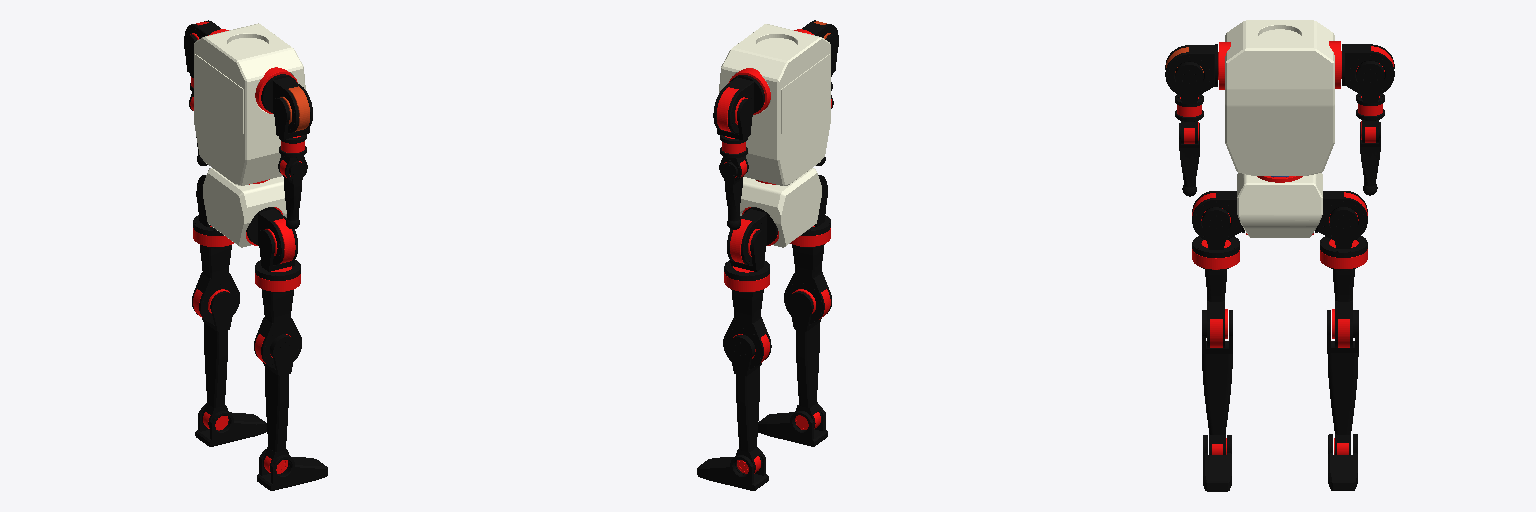
--- Render facts (derived) ---
3 views of the same robot in one strip: view 1: azimuth 30°, elevation 25°; view 2: azimuth 150°, elevation 25°; view 3: azimuth 270°, elevation 25° (orthographic).
Model humanoid with 22 links and 21 joints (19 revolute, 2 fixed), rooted at hip, posed all joints at 0.
Visible links, largest first — view 1: connector0_3, hip, connector2_4, connector2_2, connector3, connector3_2, connector0_5, connector2_3, shoes, shoes_2, connector0_2, connector2_6 (+2 smaller); view 2: connector0_3, hip, connector2_2, connector2_4, connector3_2, connector3, connector0_4, connector2, shoes, shoes_2, connector0, connector2_5 (+2 smaller); view 3: connector0_3, hip, connector2_2, connector2_4, connector2_3, connector2, connector3, connector0_5, connector3_2, connector0_4, connector2_5, connector2_6 (+8 smaller).
Link boxes in pixels (x1,y1,x2,y2): connector0_3: (194, 23, 305, 185); hip: (203, 168, 286, 247); connector2_4: (263, 334, 296, 474); connector2_2: (202, 291, 235, 430); connector3: (192, 245, 239, 323); connector3_2: (254, 289, 301, 368); connector0_5: (261, 74, 312, 132); connector2_3: (255, 230, 300, 291); shoes: (195, 404, 266, 446); shoes_2: (257, 449, 327, 490); connector0_2: (246, 207, 297, 264); connector2_6: (273, 98, 311, 152); connector0_3: (719, 24, 830, 185); hip: (740, 168, 821, 247); connector2_2: (728, 335, 762, 474); connector2_4: (788, 291, 821, 429); connector3_2: (784, 244, 831, 323); connector3: (723, 289, 771, 368); connector0_4: (713, 75, 764, 133); connector2: (724, 230, 769, 291); shoes: (697, 448, 768, 490); shoes_2: (758, 404, 827, 446); connector0: (727, 207, 777, 264); connector2_5: (717, 99, 753, 153); connector0_3: (1218, 20, 1341, 176); hip: (1237, 173, 1322, 237); connector2_2: (1327, 310, 1358, 454); connector2_4: (1202, 310, 1232, 454); connector2_3: (1192, 207, 1239, 269); connector2: (1320, 207, 1367, 268); connector3: (1329, 267, 1357, 347); connector0_5: (1165, 44, 1217, 94); connector3_2: (1201, 267, 1228, 347); connector0_4: (1342, 44, 1394, 93); connector2_5: (1356, 61, 1384, 115); connector2_6: (1175, 62, 1203, 116).
Bounding box of the posed robot: 0.1824 × 0.471 × 0.9872 m (x, y, z).
Meshes: 18 distinct files referenced, 62 mesh visuals loaded (18 binary STL).

The robot description file, URDF, robot "humanoid":
<?xml version="1.0" ?>
<!-- Generated using onshape-to-robot -->
<!-- Onshape https://cad.onshape.com/documents/06688c54d9f33b1df3ff96fa/w/bd34902b55e37a044bc3683c/e/d011f94fe5533725f802c3ea -->
<robot name="humanoid">
  
  <!--Materials-->
  <material name="motor_mat">
    <color rgba="1.0 0.1 0.1 1"/>
  </material>
  <material name="connector_mat">
    <color rgba="0.10 0.10 0.10 1"/>
  </material>
  <material name="limb_mat">
    <color rgba="0.10 0.10 0.10 1"/>
  </material>
  <material name="body_mat">
    <color rgba="0.988 0.988 0.902 1"/>
  </material>

  <!-- Link hip -->
  <link name="hip">
    <inertial>
      <origin xyz="-0.0727621 -9.80268e-09 0.0052993" rpy="0 0 0"/>
      <mass value="3.89945"/>
      <inertia ixx="0.014136" ixy="3.14405e-09" ixz="-0.000317995" iyy="0.0105889" iyz="3.69433e-10" izz="0.0125774"/>
    </inertial>
    <!-- Part big_motor -->
    <visual>
      <origin xyz="-0.0750228 0.07 -0.0230023" rpy="-1.5708 -0 0"/>
      <geometry>
        <mesh filename="assets/big_motor.stl"/>
      </geometry>
      <material name="motor_mat"/>
    </visual>
    <collision>
      <origin xyz="-0.0750228 0.07 -0.0230023" rpy="-1.5708 -0 0"/>
      <geometry>
        <mesh filename="assets/big_motor.stl"/>
      </geometry>
    </collision>
    <!-- Part big_motor_2 -->
    <visual>
      <origin xyz="-0.0750228 -0.07 -0.0230023" rpy="-1.5708 -0 3.14159"/>
      <geometry>
        <mesh filename="assets/big_motor.stl"/>
      </geometry>
      <material name="motor_mat"/>
    </visual>
    <collision>
      <origin xyz="-0.0750228 -0.07 -0.0230023" rpy="-1.5708 -0 3.14159"/>
      <geometry>
        <mesh filename="assets/big_motor.stl"/>
      </geometry>
    </collision>
    <!-- Part hip -->
    <visual>
      <origin xyz="0 0 0" rpy="0 -0 0"/>
      <geometry>
        <mesh filename="assets/hip.stl"/>
      </geometry>
      <material name="body_mat"/>
    </visual>
    <collision>
      <origin xyz="0 0 0" rpy="0 -0 0"/>
      <geometry>
        <mesh filename="assets/hip.stl"/>
      </geometry>
    </collision>
    <!-- Part big_motor_3 -->
    <visual>
      <origin xyz="-0.0707505 0 0.075" rpy="0 -0 0"/>
      <geometry>
        <mesh filename="assets/big_motor.stl"/>
      </geometry>
      <material name="motor_mat"/>
    </visual>
    <collision>
      <origin xyz="-0.0707505 0 0.075" rpy="0 -0 0"/>
      <geometry>
        <mesh filename="assets/big_motor.stl"/>
      </geometry>
    </collision>
  </link>
  <!-- Link connector0 -->
  <link name="connector0">
    <inertial>
      <origin xyz="-0.00178585 -0.00977757 -0.0525704" rpy="0 0 0"/>
      <mass value="0.759712"/>
      <inertia ixx="0.00106697" ixy="-2.27622e-06" ixz="-7.40439e-06" iyy="0.000716195" iyz="-6.45966e-05" izz="0.00058095"/>
    </inertial>
    <!-- Part big_motor_4 -->
    <visual>
      <origin xyz="0.01325 -0.012 -0.059" rpy="1.5708 1.85037e-16 1.5708"/>
      <geometry>
        <mesh filename="assets/big_motor.stl"/>
      </geometry>
      <material name="motor_mat"/>
    </visual>
    <collision>
      <origin xyz="0.01325 -0.012 -0.059" rpy="1.5708 1.85037e-16 1.5708"/>
      <geometry>
        <mesh filename="assets/big_motor.stl"/>
      </geometry>
    </collision>
    <!-- Part connector1 -->
    <visual>
      <origin xyz="0.01325 -0.012 -0.059" rpy="-0 1.5708 0"/>
      <geometry>
        <mesh filename="assets/connector1.stl"/>
      </geometry>
      <material name="connector_mat"/>
    </visual>
    <collision>
      <origin xyz="0.01325 -0.012 -0.059" rpy="-0 1.5708 0"/>
      <geometry>
        <mesh filename="assets/connector1.stl"/>
      </geometry>
    </collision>
    <!-- Part connector0 -->
    <visual>
      <origin xyz="0 0 0" rpy="3.14159 -0 0"/>
      <geometry>
        <mesh filename="assets/connector0.stl"/>
      </geometry>
      <material name="connector_mat"/>
    </visual>
    <collision>
      <origin xyz="0 0 0" rpy="3.14159 -0 0"/>
      <geometry>
        <mesh filename="assets/connector0.stl"/>
      </geometry>
    </collision>
  </link>
  <!-- Link connector2 -->
  <link name="connector2">
    <inertial>
      <origin xyz="-0.070879 -3.98452e-10 0.016405" rpy="0 0 0"/>
      <mass value="0.768711"/>
      <inertia ixx="0.000834738" ixy="-8.46017e-12" ixz="3.24212e-05" iyy="0.00100733" iyz="1.82259e-13" izz="0.000953625"/>
    </inertial>
    <!-- Part connector2 -->
    <visual>
      <origin xyz="0 0 0.002" rpy="3.14159 -0 1.5708"/>
      <geometry>
        <mesh filename="assets/connector2.stl"/>
      </geometry>
      <material name="connector_mat"/>
    </visual>
    <collision>
      <origin xyz="0 0 0.002" rpy="3.14159 -0 1.5708"/>
      <geometry>
        <mesh filename="assets/connector2.stl"/>
      </geometry>
    </collision>
    <!-- Part connector4 -->
    <visual>
      <origin xyz="-0.034 0 0.017" rpy="-0 1.5708 0"/>
      <geometry>
        <mesh filename="assets/connector4.stl"/>
      </geometry>
      <material name="connector_mat"/>
    </visual>
    <collision>
      <origin xyz="-0.034 0 0.017" rpy="-0 1.5708 0"/>
      <geometry>
        <mesh filename="assets/connector4.stl"/>
      </geometry>
    </collision>
    <!-- Part big_motor_5 -->
    <visual>
      <origin xyz="-0.098 0 0.017" rpy="-3.14159 1.5708 0"/>
      <geometry>
        <mesh filename="assets/big_motor.stl"/>
      </geometry>
      <material name="motor_mat"/>
    </visual>
    <collision>
      <origin xyz="-0.098 0 0.017" rpy="-3.14159 1.5708 0"/>
      <geometry>
        <mesh filename="assets/big_motor.stl"/>
      </geometry>
    </collision>
  </link>
  <!-- Link connector3 -->
  <link name="connector3">
    <inertial>
      <origin xyz="-5.84414e-05 -0.00128501 -0.112644" rpy="0 0 0"/>
      <mass value="0.935207"/>
      <inertia ixx="0.00275872" ixy="-1.53233e-08" ixz="-1.05697e-06" iyy="0.00308647" iyz="-3.76162e-05" izz="0.000568309"/>
    </inertial>
    <!-- Part connector6 -->
    <visual>
      <origin xyz="-7.10983e-05 -0.0125 -0.144" rpy="1.5708 -0 0"/>
      <geometry>
        <mesh filename="assets/connector6.stl"/>
      </geometry>
      <material name="connector_mat"/>
    </visual>
    <collision>
      <origin xyz="-7.10983e-05 -0.0125 -0.144" rpy="1.5708 -0 0"/>
      <geometry>
        <mesh filename="assets/connector6.stl"/>
      </geometry>
    </collision>
    <!-- Part connector3 -->
    <visual>
      <origin xyz="0 0 0.002" rpy="3.14159 -0 0"/>
      <geometry>
        <mesh filename="assets/connector3.stl"/>
      </geometry>
      <material name="connector_mat"/>
    </visual>
    <collision>
      <origin xyz="0 0 0.002" rpy="3.14159 -0 0"/>
      <geometry>
        <mesh filename="assets/connector3.stl"/>
      </geometry>
    </collision>
    <!-- Part thigh_bone -->
    <visual>
      <origin xyz="0.000307787 0 -0.082" rpy="0 -0 0"/>
      <geometry>
        <mesh filename="assets/thigh_bone.stl"/>
      </geometry>
      <material name="limb_mat"/>
    </visual>
    <collision>
      <origin xyz="0.000307787 0 -0.082" rpy="0 -0 0"/>
      <geometry>
        <mesh filename="assets/thigh_bone.stl"/>
      </geometry>
    </collision>
    <!-- Part big_motor_6 -->
    <visual>
      <origin xyz="-7.10983e-05 0.0135 -0.144" rpy="-1.5708 -0 0"/>
      <geometry>
        <mesh filename="assets/big_motor.stl"/>
      </geometry>
      <material name="motor_mat"/>
    </visual>
    <collision>
      <origin xyz="-7.10983e-05 0.0135 -0.144" rpy="-1.5708 -0 0"/>
      <geometry>
        <mesh filename="assets/big_motor.stl"/>
      </geometry>
    </collision>
  </link>
  <!-- Link connector2_2 -->
  <link name="connector2_2">
    <inertial>
      <origin xyz="-7.67692e-05 -0.155915 0.0167959" rpy="0 0 0"/>
      <mass value="0.650858"/>
      <inertia ixx="0.00622527" ixy="-4.76015e-06" ixz="7.24798e-08" iyy="0.000251593" iyz="0.000111598" izz="0.00612623"/>
    </inertial>
    <!-- Part connector5 -->
    <visual>
      <origin xyz="-0.000192408 -0.28 0.029" rpy="0 -0 0"/>
      <geometry>
        <mesh filename="assets/connector5.stl"/>
      </geometry>
      <material name="connector_mat"/>
    </visual>
    <collision>
      <origin xyz="-0.000192408 -0.28 0.029" rpy="0 -0 0"/>
      <geometry>
        <mesh filename="assets/connector5.stl"/>
      </geometry>
    </collision>
    <!-- Part shin_bone -->
    <visual>
      <origin xyz="0.000202982 -0.245 0.017" rpy="-1.5708 -1.5708 0"/>
      <geometry>
        <mesh filename="assets/shin_bone.stl"/>
      </geometry>
      <material name="limb_mat"/>
    </visual>
    <collision>
      <origin xyz="0.000202982 -0.245 0.017" rpy="-1.5708 -1.5708 0"/>
      <geometry>
        <mesh filename="assets/shin_bone.stl"/>
      </geometry>
    </collision>
    <!-- Part connector2_2 -->
    <visual>
      <origin xyz="0 0 0.002" rpy="3.14159 -0 3.14159"/>
      <geometry>
        <mesh filename="assets/connector2.stl"/>
      </geometry>
      <material name="connector_mat"/>
    </visual>
    <collision>
      <origin xyz="0 0 0.002" rpy="3.14159 -0 3.14159"/>
      <geometry>
        <mesh filename="assets/connector2.stl"/>
      </geometry>
    </collision>
    <!-- Part small_motor -->
    <visual>
      <origin xyz="-0.000192408 -0.28 0.00499998" rpy="3.14159 -0 0"/>
      <geometry>
        <mesh filename="assets/small_motor.stl"/>
      </geometry>
      <material name="motor_mat"/>
    </visual>
    <collision>
      <origin xyz="-0.000192408 -0.28 0.00499998" rpy="3.14159 -0 0"/>
      <geometry>
        <mesh filename="assets/small_motor.stl"/>
      </geometry>
    </collision>
  </link>
  <!-- Link shoes -->
  <link name="shoes">
    <inertial>
      <origin xyz="0.0407995 -0.0301209 0.0170043" rpy="0 0 0"/>
      <mass value="0.336504"/>
      <inertia ixx="0.000183453" ixy="1.91792e-05" ixz="-7.71443e-08" iyy="0.000613076" iyz="6.74133e-09" izz="0.000571959"/>
    </inertial>
    <!-- Part shoes -->
    <visual>
      <origin xyz="0.00582733 0.0081512 -0.013" rpy="3.14159 -0 3.14159"/>
      <geometry>
        <mesh filename="assets/shoes.stl"/>
      </geometry>
      <material name="limb_mat"/>
    </visual>
    <collision>
      <origin xyz="0.00582733 0.0081512 -0.013" rpy="3.14159 -0 3.14159"/>
      <geometry>
        <mesh filename="assets/shoes.stl"/>
      </geometry>
    </collision>
  </link>
  <!-- Joint from connector2_2 to shoes -->
  <joint name="left_ankle" type="revolute">
    <origin xyz="-0.000192408 -0.28 -1.62227e-08" rpy="0 -0 0"/>
    <parent link="connector2_2"/>
    <child link="shoes"/>
    <axis xyz="0 0 1"/>
    <limit effort="10" velocity="10" lower="-0.7" upper="0.6"/>
  </joint>
  <!-- Joint from connector3 to connector2_2 -->
  <joint name="knee_left" type="revolute">
    <origin xyz="-7.10983e-05 0.0155 -0.144" rpy="1.5708 -0 0"/>
    <parent link="connector3"/>
    <child link="connector2_2"/>
    <axis xyz="0 0 1"/>
    <limit effort="10" velocity="10" lower="-1.85" upper="0.1"/>
  </joint>
  <!-- Joint from connector2 to connector3 -->
  <joint name="hip_left_z" type="revolute">
    <origin xyz="-0.1 0 0.017" rpy="-0 1.5708 0"/>
    <parent link="connector2"/>
    <child link="connector3"/>
    <axis xyz="0 0 1"/>
    <limit effort="10" velocity="10" lower="-0.8" upper="1.54"/>
  </joint>
  <!-- Joint from connector0 to connector2 -->
  <joint name="hip_left_x" type="revolute">
    <origin xyz="0.01525 -0.012 -0.059" rpy="-1.5708 1.85037e-16 1.5708"/>
    <parent link="connector0"/>
    <child link="connector2"/>
    <axis xyz="0 0 1"/>
    <limit effort="10" velocity="10" lower="-1.54" upper="0.3"/>
  </joint>
  <!-- Joint from hip to connector0 -->
  <joint name="hip_left_y" type="revolute">
    <origin xyz="-0.0750228 0.072 -0.0230023" rpy="1.5708 -0 0"/>
    <parent link="hip"/>
    <child link="connector0"/>
    <axis xyz="0 0 1"/>
    <limit effort="10" velocity="10" lower="-1.54" upper="1.54"/>
  </joint>
  <!-- Link connector0_2 -->
  <link name="connector0_2">
    <inertial>
      <origin xyz="0.000419786 -0.00977757 -0.0525704" rpy="0 0 0"/>
      <mass value="0.759712"/>
      <inertia ixx="0.00106697" ixy="1.44779e-06" ixz="3.36933e-06" iyy="0.000715971" iyz="-6.45966e-05" izz="0.000580725"/>
    </inertial>
    <!-- Part connector0_2 -->
    <visual>
      <origin xyz="0 0 0" rpy="3.14159 -0 0"/>
      <geometry>
        <mesh filename="assets/connector0.stl"/>
      </geometry>
      <material name="connector_mat"/>
    </visual>
    <collision>
      <origin xyz="0 0 0" rpy="3.14159 -0 0"/>
      <geometry>
        <mesh filename="assets/connector0.stl"/>
      </geometry>
    </collision>
    <!-- Part big_motor_7 -->
    <visual>
      <origin xyz="-0.01475 -0.012 -0.059" rpy="-1.5708 1.85037e-16 1.5708"/>
      <geometry>
        <mesh filename="assets/big_motor.stl"/>
      </geometry>
      <material name="motor_mat"/>
    </visual>
    <collision>
      <origin xyz="-0.01475 -0.012 -0.059" rpy="-1.5708 1.85037e-16 1.5708"/>
      <geometry>
        <mesh filename="assets/big_motor.stl"/>
      </geometry>
    </collision>
    <!-- Part connector1_2 -->
    <visual>
      <origin xyz="0.01325 -0.012 -0.059" rpy="-0 1.5708 0"/>
      <geometry>
        <mesh filename="assets/connector1.stl"/>
      </geometry>
      <material name="connector_mat"/>
    </visual>
    <collision>
      <origin xyz="0.01325 -0.012 -0.059" rpy="-0 1.5708 0"/>
      <geometry>
        <mesh filename="assets/connector1.stl"/>
      </geometry>
    </collision>
  </link>
  <!-- Link connector2_3 -->
  <link name="connector2_3">
    <inertial>
      <origin xyz="-0.070879 -3.98452e-10 0.016405" rpy="0 0 0"/>
      <mass value="0.768711"/>
      <inertia ixx="0.000834738" ixy="-8.46017e-12" ixz="3.24212e-05" iyy="0.00100733" iyz="1.82259e-13" izz="0.000953625"/>
    </inertial>
    <!-- Part connector4_2 -->
    <visual>
      <origin xyz="-0.034 0 0.017" rpy="-0 1.5708 0"/>
      <geometry>
        <mesh filename="assets/connector4.stl"/>
      </geometry>
      <material name="connector_mat"/>
    </visual>
    <collision>
      <origin xyz="-0.034 0 0.017" rpy="-0 1.5708 0"/>
      <geometry>
        <mesh filename="assets/connector4.stl"/>
      </geometry>
    </collision>
    <!-- Part big_motor_8 -->
    <visual>
      <origin xyz="-0.098 -2.77556e-17 0.017" rpy="-3.14159 1.5708 0"/>
      <geometry>
        <mesh filename="assets/big_motor.stl"/>
      </geometry>
      <material name="motor_mat"/>
    </visual>
    <collision>
      <origin xyz="-0.098 -2.77556e-17 0.017" rpy="-3.14159 1.5708 0"/>
      <geometry>
        <mesh filename="assets/big_motor.stl"/>
      </geometry>
    </collision>
    <!-- Part connector2_3 -->
    <visual>
      <origin xyz="0 0 0.002" rpy="3.14159 -0 1.5708"/>
      <geometry>
        <mesh filename="assets/connector2.stl"/>
      </geometry>
      <material name="connector_mat"/>
    </visual>
    <collision>
      <origin xyz="0 0 0.002" rpy="3.14159 -0 1.5708"/>
      <geometry>
        <mesh filename="assets/connector2.stl"/>
      </geometry>
    </collision>
  </link>
  <!-- Link connector3_2 -->
  <link name="connector3_2">
    <inertial>
      <origin xyz="-5.84414e-05 0.0017471 -0.112644" rpy="0 0 0"/>
      <mass value="0.935207"/>
      <inertia ixx="0.00276025" ixy="2.05674e-08" ixz="-1.05697e-06" iyy="0.00308647" iyz="5.12972e-05" izz="0.000569835"/>
    </inertial>
    <!-- Part connector6_2 -->
    <visual>
      <origin xyz="-7.10983e-05 -0.0125 -0.144" rpy="1.5708 -0 0"/>
      <geometry>
        <mesh filename="assets/connector6.stl"/>
      </geometry>
      <material name="connector_mat"/>
    </visual>
    <collision>
      <origin xyz="-7.10983e-05 -0.0125 -0.144" rpy="1.5708 -0 0"/>
      <geometry>
        <mesh filename="assets/connector6.stl"/>
      </geometry>
    </collision>
    <!-- Part connector3_2 -->
    <visual>
      <origin xyz="0 0 0.002" rpy="3.14159 -0 0"/>
      <geometry>
        <mesh filename="assets/connector3.stl"/>
      </geometry>
      <material name="connector_mat"/>
    </visual>
    <collision>
      <origin xyz="0 0 0.002" rpy="3.14159 -0 0"/>
      <geometry>
        <mesh filename="assets/connector3.stl"/>
      </geometry>
    </collision>
    <!-- Part big_motor_9 -->
    <visual>
      <origin xyz="-7.10983e-05 -0.0125 -0.144" rpy="1.5708 -0 0"/>
      <geometry>
        <mesh filename="assets/big_motor.stl"/>
      </geometry>
      <material name="motor_mat"/>
    </visual>
    <collision>
      <origin xyz="-7.10983e-05 -0.0125 -0.144" rpy="1.5708 -0 0"/>
      <geometry>
        <mesh filename="assets/big_motor.stl"/>
      </geometry>
    </collision>
    <!-- Part thigh_bone_2 -->
    <visual>
      <origin xyz="0.000307787 0 -0.082" rpy="0 -0 0"/>
      <geometry>
        <mesh filename="assets/thigh_bone.stl"/>
      </geometry>
      <material name="limb_mat"/>
    </visual>
    <collision>
      <origin xyz="0.000307787 0 -0.082" rpy="0 -0 0"/>
      <geometry>
        <mesh filename="assets/thigh_bone.stl"/>
      </geometry>
    </collision>
  </link>
  <!-- Link connector2_4 -->
  <link name="connector2_4">
    <inertial>
      <origin xyz="-7.67692e-05 0.155915 0.016796" rpy="0 0 0"/>
      <mass value="0.650858"/>
      <inertia ixx="0.00622527" ixy="4.76015e-06" ixz="7.28217e-08" iyy="0.000251593" iyz="-0.000111591" izz="0.00612623"/>
    </inertial>
    <!-- Part shin_bone_2 -->
    <visual>
      <origin xyz="0.000202982 0.245 0.017" rpy="1.5708 1.5708 0"/>
      <geometry>
        <mesh filename="assets/shin_bone.stl"/>
      </geometry>
      <material name="limb_mat"/>
    </visual>
    <collision>
      <origin xyz="0.000202982 0.245 0.017" rpy="1.5708 1.5708 0"/>
      <geometry>
        <mesh filename="assets/shin_bone.stl"/>
      </geometry>
    </collision>
    <!-- Part connector2_4 -->
    <visual>
      <origin xyz="0 0 0.002" rpy="3.14159 -0 0"/>
      <geometry>
        <mesh filename="assets/connector2.stl"/>
      </geometry>
      <material name="connector_mat"/>
    </visual>
    <collision>
      <origin xyz="0 0 0.002" rpy="3.14159 -0 0"/>
      <geometry>
        <mesh filename="assets/connector2.stl"/>
      </geometry>
    </collision>
    <!-- Part small_motor_2 -->
    <visual>
      <origin xyz="-0.000192408 0.28 0.00500002" rpy="3.14159 -0 0"/>
      <geometry>
        <mesh filename="assets/small_motor.stl"/>
      </geometry>
      <material name="motor_mat"/>
    </visual>
    <collision>
      <origin xyz="-0.000192408 0.28 0.00500002" rpy="3.14159 -0 0"/>
      <geometry>
        <mesh filename="assets/small_motor.stl"/>
      </geometry>
    </collision>
    <!-- Part connector5_2 -->
    <visual>
      <origin xyz="-0.000192408 0.28 0.00500002" rpy="3.14159 -0 0"/>
      <geometry>
        <mesh filename="assets/connector5.stl"/>
      </geometry>
      <material name="connector_mat"/>
    </visual>
    <collision>
      <origin xyz="-0.000192408 0.28 0.00500002" rpy="3.14159 -0 0"/>
      <geometry>
        <mesh filename="assets/connector5.stl"/>
      </geometry>
    </collision>
  </link>
  <!-- Link shoes_2 -->
  <link name="shoes_2">
    <inertial>
      <origin xyz="0.0407995 0.0301209 0.0169957" rpy="0 0 0"/>
      <mass value="0.336504"/>
      <inertia ixx="0.000183453" ixy="-1.91792e-05" ixz="7.71443e-08" iyy="0.000613076" iyz="6.74133e-09" izz="0.000571959"/>
    </inertial>
    <!-- Part shoes_2 -->
    <visual>
      <origin xyz="0.00582733 -0.0081512 0.047" rpy="0 -0 3.14159"/>
      <geometry>
        <mesh filename="assets/shoes.stl"/>
      </geometry>
      <material name="limb_mat"/>
    </visual>
    <collision>
      <origin xyz="0.00582733 -0.0081512 0.047" rpy="0 -0 3.14159"/>
      <geometry>
        <mesh filename="assets/shoes.stl"/>
      </geometry>
    </collision>
  </link>
  <!-- Joint from connector2_4 to shoes_2 -->
  <joint name="right_ankle" type="revolute">
    <origin xyz="-0.000192408 0.28 1.62227e-08" rpy="0 -0 0"/>
    <parent link="connector2_4"/>
    <child link="shoes_2"/>
    <axis xyz="0 0 1"/>
    <limit effort="10" velocity="10" lower="-0.6" upper="0.7"/>
  </joint>
  <!-- Joint from connector3_2 to connector2_4 -->
  <joint name="knee_right" type="revolute">
    <origin xyz="-7.10983e-05 -0.0145 -0.144" rpy="-1.5708 -0 0"/>
    <parent link="connector3_2"/>
    <child link="connector2_4"/>
    <axis xyz="0 0 1"/>
    <limit effort="10" velocity="10" lower="-0.1" upper="1.85"/>
  </joint>
  <!-- Joint from connector2_3 to connector3_2 -->
  <joint name="hip_right_z" type="revolute">
    <origin xyz="-0.1 -2.77556e-17 0.017" rpy="-0 1.5708 0"/>
    <parent link="connector2_3"/>
    <child link="connector3_2"/>
    <axis xyz="0 0 1"/>
    <limit effort="10" velocity="10" lower="-1.54" upper="0.8"/>
  </joint>
  <!-- Joint from connector0_2 to connector2_3 -->
  <joint name="hip_right_x" type="revolute">
    <origin xyz="-0.01675 -0.012 -0.059" rpy="1.5708 1.85037e-16 1.5708"/>
    <parent link="connector0_2"/>
    <child link="connector2_3"/>
    <axis xyz="0 0 1"/>
    <limit effort="10" velocity="10" lower="-.3" upper="1.54"/>
  </joint>
  <!-- Joint from hip to connector0_2 -->
  <joint name="hip_right_y" type="revolute">
    <origin xyz="-0.0750228 -0.072 -0.0230023" rpy="1.5708 -0 3.14159"/>
    <parent link="hip"/>
    <child link="connector0_2"/>
    <axis xyz="0 0 1"/>
    <limit effort="10" velocity="10" lower="-1.54" upper="1.54"/>
  </joint>
  <!-- Link connector0_3 -->
  <link name="connector0_3">
    <inertial>
      <origin xyz="-0.00177518 -3.44733e-08 -0.168206" rpy="0 0 0"/>
      <mass value="6.2149"/>
      <inertia ixx="0.0721998" ixy="-0.000183484" ixz="0.0010436" iyy="0.0494782" iyz="-3.45362e-07" izz="0.0418963"/>
    </inertial>
    <!-- Part big_motor_10 -->
    <visual>
      <origin xyz="0.000528207 0.125 -0.232" rpy="-1.5708 -0 0"/>
      <geometry>
        <mesh filename="assets/big_motor.stl"/>
      </geometry>
      <material name="motor_mat"/>
    </visual>
    <collision>
      <origin xyz="0.000528207 0.125 -0.232" rpy="-1.5708 -0 0"/>
      <geometry>
        <mesh filename="assets/big_motor.stl"/>
      </geometry>
    </collision>
    <!-- Part chest -->
    <visual>
      <origin xyz="0.0770282 -5.72583e-17 -0.1545" rpy="3.14159 -0 0"/>
      <geometry>
        <mesh filename="assets/chest.stl"/>
      </geometry>
      <material name="body_mat"/>
    </visual>
    <collision>
      <origin xyz="0.0770282 -5.72583e-17 -0.1545" rpy="3.14159 -0 0"/>
      <geometry>
        <mesh filename="assets/chest.stl"/>
      </geometry>
    </collision>
    <!-- Part connector0_3 -->
    <visual>
      <origin xyz="0 1.83697e-18 0" rpy="3.14159 -0 0"/>
      <geometry>
        <mesh filename="assets/connector0.stl"/>
      </geometry>
      <material name="connector0_3_material">
        <color rgba="0.231373 0.380392 0.705882 1"/>
      </material>
    </visual>
    <collision>
      <origin xyz="0 1.83697e-18 0" rpy="3.14159 -0 0"/>
      <geometry>
        <mesh filename="assets/connector0.stl"/>
      </geometry>
    </collision>
    <!-- Part big_motor_11 -->
    <visual>
      <origin xyz="-0.00297179 -0.125 -0.232006" rpy="1.5708 -0 0"/>
      <geometry>
        <mesh filename="assets/big_motor.stl"/>
      </geometry>
      <material name="motor_mat"/>
    </visual>
    <collision>
      <origin xyz="-0.00297179 -0.125 -0.232006" rpy="1.5708 -0 0"/>
      <geometry>
        <mesh filename="assets/big_motor.stl"/>
      </geometry>
    </collision>
  </link>
  <!-- Link connector0_4 -->
  <link name="connector0_4">
    <inertial>
      <origin xyz="-0.00178585 -0.00977757 -0.0525704" rpy="0 0 0"/>
      <mass value="0.759712"/>
      <inertia ixx="0.00106697" ixy="-2.27622e-06" ixz="-7.40439e-06" iyy="0.000716195" iyz="-6.45966e-05" izz="0.00058095"/>
    </inertial>
    <!-- Part connector0_4 -->
    <visual>
      <origin xyz="0 0 0" rpy="3.14159 -0 0"/>
      <geometry>
        <mesh filename="assets/connector0.stl"/>
      </geometry>
      <material name="connector_mat"/>
    </visual>
    <collision>
      <origin xyz="0 0 0" rpy="3.14159 -0 0"/>
      <geometry>
        <mesh filename="assets/connector0.stl"/>
      </geometry>
    </collision>
    <!-- Part big_motor_12 -->
    <visual>
      <origin xyz="0.01325 -0.012 -0.059" rpy="1.5708 1.85037e-16 1.5708"/>
      <geometry>
        <mesh filename="assets/big_motor.stl"/>
      </geometry>
      <material name="motor_mat"/>
    </visual>
    <collision>
      <origin xyz="0.01325 -0.012 -0.059" rpy="1.5708 1.85037e-16 1.5708"/>
      <geometry>
        <mesh filename="assets/big_motor.stl"/>
      </geometry>
    </collision>
    <!-- Part connector1_3 -->
    <visual>
      <origin xyz="0.01325 -0.012 -0.059" rpy="-0 1.5708 0"/>
      <geometry>
        <mesh filename="assets/connector1.stl"/>
      </geometry>
      <material name="connector_mat"/>
    </visual>
    <collision>
      <origin xyz="0.01325 -0.012 -0.059" rpy="-0 1.5708 0"/>
      <geometry>
        <mesh filename="assets/connector1.stl"/>
      </geometry>
    </collision>
  </link>
  <!-- Link connector2_5 -->
  <link name="connector2_5">
    <inertial>
      <origin xyz="-0.0522817 1.59545e-17 0.0154115" rpy="0 0 0"/>
      <mass value="0.287959"/>
      <inertia ixx="0.000155592" ixy="1.03301e-19" ixz="2.39145e-05" iyy="0.000451192" iyz="-6.57067e-21" izz="0.0003979"/>
    </inertial>
    <!-- Part connector2_5 -->
    <visual>
      <origin xyz="0 0 0.002" rpy="3.14159 -0 1.5708"/>
      <geometry>
        <mesh filename="assets/connector2.stl"/>
      </geometry>
      <material name="connector_mat"/>
    </visual>
    <collision>
      <origin xyz="0 0 0.002" rpy="3.14159 -0 1.5708"/>
      <geometry>
        <mesh filename="assets/connector2.stl"/>
      </geometry>
    </collision>
    <!-- Part connector7 -->
    <visual>
      <origin xyz="-0.069 2.77556e-17 0.017" rpy="-0 1.5708 0"/>
      <geometry>
        <mesh filename="assets/connector7.stl"/>
      </geometry>
      <material name="connector_mat"/>
    </visual>
    <collision>
      <origin xyz="-0.069 2.77556e-17 0.017" rpy="-0 1.5708 0"/>
      <geometry>
        <mesh filename="assets/connector7.stl"/>
      </geometry>
    </collision>
    <!-- Part small_motor_3 -->
    <visual>
      <origin xyz="-0.093 2.77556e-17 0.017" rpy="-3.14159 1.5708 0"/>
      <geometry>
        <mesh filename="assets/small_motor.stl"/>
      </geometry>
      <material name="motor_mat"/>
    </visual>
    <collision>
      <origin xyz="-0.093 2.77556e-17 0.017" rpy="-3.14159 1.5708 0"/>
      <geometry>
        <mesh filename="assets/small_motor.stl"/>
      </geometry>
    </collision>
  </link>
  <!-- Link connector7 -->
  <link name="connector7">
    <inertial>
      <origin xyz="-8.7963e-19 -0.00169196 -0.0384885" rpy="0 0 0"/>
      <mass value="0.191842"/>
      <inertia ixx="7.90601e-05" ixy="-1.66786e-22" ixz="-9.61509e-22" iyy="9.39121e-05" iyz="-1.78899e-06" izz="5.41431e-05"/>
    </inertial>
    <!-- Part connector7_2 -->
    <visual>
      <origin xyz="0 0 -0.009" rpy="0 -0 0"/>
      <geometry>
        <mesh filename="assets/connector7.stl"/>
      </geometry>
      <material name="connector_mat"/>
    </visual>
    <collision>
      <origin xyz="0 0 -0.009" rpy="0 -0 0"/>
      <geometry>
        <mesh filename="assets/connector7.stl"/>
      </geometry>
    </collision>
    <!-- Part connector5_3 -->
    <visual>
      <origin xyz="0 -0.012 -0.044" rpy="1.5708 -0 0"/>
      <geometry>
        <mesh filename="assets/connector5.stl"/>
      </geometry>
      <material name="connector_mat"/>
    </visual>
    <collision>
      <origin xyz="0 -0.012 -0.044" rpy="1.5708 -0 0"/>
      <geometry>
        <mesh filename="assets/connector5.stl"/>
      </geometry>
    </collision>
    <!-- Part small_motor_4 -->
    <visual>
      <origin xyz="0 0.012 -0.044" rpy="-1.5708 -0 0"/>
      <geometry>
        <mesh filename="assets/small_motor.stl"/>
      </geometry>
      <material name="motor_mat"/>
    </visual>
    <collision>
      <origin xyz="0 0.012 -0.044" rpy="-1.5708 -0 0"/>
      <geometry>
        <mesh filename="assets/small_motor.stl"/>
      </geometry>
    </collision>
  </link>
  <!-- Link connector8 -->
  <link name="connector8">
    <inertial>
      <origin xyz="1.5585e-08 -0.0682241 0.0126168" rpy="0 0 0"/>
      <mass value="0.112857"/>
      <inertia ixx="0.000209433" ixy="-8.28255e-11" ixz="-6.19243e-08" iyy="1.9316e-05" iyz="6.79986e-06" izz="0.00019964"/>
    </inertial>
    <!-- Part wrist -->
    <visual>
      <origin xyz="0 -0.032 0.0135" rpy="1.5708 -1.5708 0"/>
      <geometry>
        <mesh filename="assets/wrist.stl"/>
      </geometry>
      <material name="limb_mat"/>
    </visual>
    <collision>
      <origin xyz="0 -0.032 0.0135" rpy="1.5708 -1.5708 0"/>
      <geometry>
        <mesh filename="assets/wrist.stl"/>
      </geometry>
    </collision>
    <!-- Part connector8 -->
    <visual>
      <origin xyz="0 0 0.001" rpy="3.14159 -0 3.14159"/>
      <geometry>
        <mesh filename="assets/connector8.stl"/>
      </geometry>
      <material name="connector_mat"/>
    </visual>
    <collision>
      <origin xyz="0 0 0.001" rpy="3.14159 -0 3.14159"/>
      <geometry>
        <mesh filename="assets/connector8.stl"/>
      </geometry>
    </collision>
    <!-- Part hand_placeholder -->
    <visual>
      <origin xyz="0 -0.13121 0.0135" rpy="-1.5708 -0 0"/>
      <geometry>
        <mesh filename="assets/hand_placeholder.stl"/>
      </geometry>
      <material name="limb_mat"/>
    </visual>
    <collision>
      <origin xyz="0 -0.13121 0.0135" rpy="-1.5708 -0 0"/>
      <geometry>
        <mesh filename="assets/hand_placeholder.stl"/>
      </geometry>
    </collision>
  </link>
  <!-- Joint from connector7 to connector8 -->
  <joint name="left_elbow" type="revolute">
    <origin xyz="0 0.013 -0.044" rpy="1.5708 -0 0"/>
    <parent link="connector7"/>
    <child link="connector8"/>
    <axis xyz="0 0 1"/>
    <limit effort="10" velocity="10" lower="-.1" upper="1.54"/>
  </joint>
  <!-- Joint from connector2_5 to connector7 -->
  <joint name="left_shoulder_z" type="revolute">
    <origin xyz="-0.093 2.77556e-17 0.017" rpy="-0 1.5708 0"/>
    <parent link="connector2_5"/>
    <child link="connector7"/>
    <axis xyz="0 0 1"/>
    <limit effort="10" velocity="10" lower="-1.54" upper="1.54"/>
  </joint>
  <!-- Joint from connector0_4 to connector2_5 -->
  <joint name="left_shoulder_x" type="revolute">
    <origin xyz="0.01525 -0.012 -0.059" rpy="-1.5708 0.0 1.5708"/>
    <parent link="connector0_4"/>
    <child link="connector2_5"/>
    <axis xyz="0 0 1"/>
    <limit effort="10" velocity="10" lower="-1.80" upper="0.45"/>
  </joint>
  <!-- Joint from connector0_3 to connector0_4 -->
  <joint name="left_shoulder_y" type="revolute">
    <origin xyz="-0.00297179 -0.127 -0.232006" rpy="-1.5708 -0 0"/>
    <parent link="connector0_3"/>
    <child link="connector0_4"/>
    <axis xyz="0 0 1"/>
    <limit effort="10" velocity="10" lower="-3.141592653589793" upper="3.141592653589793"/>
  </joint>
  <!-- Link connector0_5 -->
  <link name="connector0_5">
    <inertial>
      <origin xyz="-0.000419786 0.00977757 -0.0525704" rpy="0 0 0"/>
      <mass value="0.759712"/>
      <inertia ixx="0.00106697" ixy="1.44779e-06" ixz="-3.36933e-06" iyy="0.000715971" iyz="6.45966e-05" izz="0.000580725"/>
    </inertial>
    <!-- Part big_motor_13 -->
    <visual>
      <origin xyz="0.01475 0.012 -0.059" rpy="-1.5708 1.85037e-16 -1.5708"/>
      <geometry>
        <mesh filename="assets/big_motor.stl"/>
      </geometry>
      <material name="big_motor_13_material">
        <color rgba="0.866667 0.321569 0.156863 1"/>
      </material>
    </visual>
    <collision>
      <origin xyz="0.01475 0.012 -0.059" rpy="-1.5708 1.85037e-16 -1.5708"/>
      <geometry>
        <mesh filename="assets/big_motor.stl"/>
      </geometry>
    </collision>
    <!-- Part connector0_5 -->
    <visual>
      <origin xyz="0 0 0" rpy="3.14159 -0 0"/>
      <geometry>
        <mesh filename="assets/connector0.stl"/>
      </geometry>
      <material name="connector_mat"/>
    </visual>
    <collision>
      <origin xyz="0 0 0" rpy="3.14159 -0 0"/>
      <geometry>
        <mesh filename="assets/connector0.stl"/>
      </geometry>
    </collision>
    <!-- Part connector1_4 -->
    <visual>
      <origin xyz="-0.01325 0.012 -0.059" rpy="-3.14159 1.5708 0"/>
      <geometry>
        <mesh filename="assets/connector1.stl"/>
      </geometry>
      <material name="connector_mat"/>
    </visual>
    <collision>
      <origin xyz="-0.01325 0.012 -0.059" rpy="-3.14159 1.5708 0"/>
      <geometry>
        <mesh filename="assets/connector1.stl"/>
      </geometry>
    </collision>
  </link>
  <!-- Link connector2_6 -->
  <link name="connector2_6">
    <inertial>
      <origin xyz="-0.0522817 1.59545e-17 0.0154115" rpy="0 0 0"/>
      <mass value="0.287959"/>
      <inertia ixx="0.000155592" ixy="1.03301e-19" ixz="2.39145e-05" iyy="0.000451192" iyz="-6.57067e-21" izz="0.0003979"/>
    </inertial>
    <!-- Part connector2_6 -->
    <visual>
      <origin xyz="0 0 0.002" rpy="3.14159 -0 1.5708"/>
      <geometry>
        <mesh filename="assets/connector2.stl"/>
      </geometry>
      <material name="connector_mat"/>
    </visual>
    <collision>
      <origin xyz="0 0 0.002" rpy="3.14159 -0 1.5708"/>
      <geometry>
        <mesh filename="assets/connector2.stl"/>
      </geometry>
    </collision>
    <!-- Part small_motor_5 -->
    <visual>
      <origin xyz="-0.093 2.77556e-17 0.017" rpy="-3.14159 1.5708 0"/>
      <geometry>
        <mesh filename="assets/small_motor.stl"/>
      </geometry>
      <material name="motor_mat"/>
    </visual>
    <collision>
      <origin xyz="-0.093 2.77556e-17 0.017" rpy="-3.14159 1.5708 0"/>
      <geometry>
        <mesh filename="assets/small_motor.stl"/>
      </geometry>
    </collision>
    <!-- Part connector7_3 -->
    <visual>
      <origin xyz="-0.069 2.77556e-17 0.017" rpy="-0 1.5708 0"/>
      <geometry>
        <mesh filename="assets/connector7.stl"/>
      </geometry>
      <material name="connector_mat"/>
    </visual>
    <collision>
      <origin xyz="-0.069 2.77556e-17 0.017" rpy="-0 1.5708 0"/>
      <geometry>
        <mesh filename="assets/connector7.stl"/>
      </geometry>
    </collision>
  </link>
  <!-- Link connector7_2 -->
  <link name="connector7_2">
    <inertial>
      <origin xyz="-8.7963e-19 0.00169196 -0.0384885" rpy="0 0 0"/>
      <mass value="0.191842"/>
      <inertia ixx="7.90601e-05" ixy="1.66786e-22" ixz="-9.61509e-22" iyy="9.39121e-05" iyz="1.78899e-06" izz="5.41431e-05"/>
    </inertial>
    <!-- Part small_motor_6 -->
    <visual>
      <origin xyz="0 -0.012 -0.044" rpy="1.5708 -0 0"/>
      <geometry>
        <mesh filename="assets/small_motor.stl"/>
      </geometry>
      <material name="motor_mat"/>
    </visual>
    <collision>
      <origin xyz="0 -0.012 -0.044" rpy="1.5708 -0 0"/>
      <geometry>
        <mesh filename="assets/small_motor.stl"/>
      </geometry>
    </collision>
    <!-- Part connector5_4 -->
    <visual>
      <origin xyz="0 -0.012 -0.044" rpy="1.5708 -0 0"/>
      <geometry>
        <mesh filename="assets/connector5.stl"/>
      </geometry>
      <material name="connector_mat"/>
    </visual>
    <collision>
      <origin xyz="0 -0.012 -0.044" rpy="1.5708 -0 0"/>
      <geometry>
        <mesh filename="assets/connector5.stl"/>
      </geometry>
    </collision>
    <!-- Part connector7_4 -->
    <visual>
      <origin xyz="0 0 -0.009" rpy="0 -0 0"/>
      <geometry>
        <mesh filename="assets/connector7.stl"/>
      </geometry>
      <material name="connector_mat"/>
    </visual>
    <collision>
      <origin xyz="0 0 -0.009" rpy="0 -0 0"/>
      <geometry>
        <mesh filename="assets/connector7.stl"/>
      </geometry>
    </collision>
  </link>
  <!-- Link connector8_2 -->
  <link name="connector8_2">
    <inertial>
      <origin xyz="-1.5585e-08 0.0682241 0.0126168" rpy="0 0 0"/>
      <mass value="0.112857"/>
      <inertia ixx="0.000209433" ixy="-8.28255e-11" ixz="6.19243e-08" iyy="1.9316e-05" iyz="-6.79986e-06" izz="0.00019964"/>
    </inertial>
    <!-- Part hand_placeholder_2 -->
    <visual>
      <origin xyz="0 0.13121 0.0135" rpy="1.5708 -0 0"/>
      <geometry>
        <mesh filename="assets/hand_placeholder.stl"/>
      </geometry>
      <material name="limb_mat"/>
    </visual>
    <collision>
      <origin xyz="0 0.13121 0.0135" rpy="1.5708 -0 0"/>
      <geometry>
        <mesh filename="assets/hand_placeholder.stl"/>
      </geometry>
    </collision>
    <!-- Part wrist_2 -->
    <visual>
      <origin xyz="0 0.032 0.0135" rpy="-1.5708 1.5708 0"/>
      <geometry>
        <mesh filename="assets/wrist.stl"/>
      </geometry>
      <material name="limb_mat"/>
    </visual>
    <collision>
      <origin xyz="0 0.032 0.0135" rpy="-1.5708 1.5708 0"/>
      <geometry>
        <mesh filename="assets/wrist.stl"/>
      </geometry>
    </collision>
    <!-- Part connector8_2 -->
    <visual>
      <origin xyz="0 0 0.001" rpy="3.14159 -0 0"/>
      <geometry>
        <mesh filename="assets/connector8.stl"/>
      </geometry>
      <material name="connector_mat"/>
    </visual>
    <collision>
      <origin xyz="0 0 0.001" rpy="3.14159 -0 0"/>
      <geometry>
        <mesh filename="assets/connector8.stl"/>
      </geometry>
    </collision>
  </link>
  <!-- Joint from connector7_2 to connector8_2 -->
  <joint name="right_elbow" type="revolute">
    <origin xyz="0 -0.013 -0.044" rpy="-1.5708 -0 0"/>
    <parent link="connector7_2"/>
    <child link="connector8_2"/>
    <axis xyz="0 0 1"/>
    <limit effort="10" velocity="10" lower="-1.54" upper="0.1"/>
  </joint>
  <!-- Joint from connector2_6 to connector7_2 -->
  <joint name="right_shoulder_z" type="revolute">
    <origin xyz="-0.093 2.77556e-17 0.017" rpy="-0 1.5708 0"/>
    <parent link="connector2_6"/>
    <child link="connector7_2"/>
    <axis xyz="0 0 1"/>
    <limit effort="10" velocity="10" lower="-1.54" upper="1.54"/>
  </joint>
  <!-- Joint from connector0_5 to connector2_6 -->
  <joint name="right_shoulder_x" type="revolute">
    <origin xyz="0.01675 0.012 -0.059" rpy="1.5708 0.0 -1.5708"/>
    <parent link="connector0_5"/>
    <child link="connector2_6"/>
    <axis xyz="0 0 1"/>
    <limit effort="10" velocity="10" lower="-0.45" upper="1.8"/>
  </joint>
  <!-- Joint from connector0_3 to connector0_5 -->
  <joint name="right_shoulder_y" type="revolute">
    <origin xyz="0.000528207 0.127 -0.232" rpy="1.5708 -0 0"/>
    <parent link="connector0_3"/>
    <child link="connector0_5"/>
    <axis xyz="0 0 1"/>
    <limit effort="10" velocity="10" lower="-3.141592653589793" upper="3.141592653589793"/>
  </joint>
  <!-- Joint from hip to connector0_3 -->
  <joint name="spine" type="revolute">
    <origin xyz="-0.0707505 6.12323e-19 0.077" rpy="3.14159 -0 0"/>
    <parent link="hip"/>
    <child link="connector0_3"/>
    <axis xyz="0 0 1"/>
    <limit effort="10" velocity="10" lower="-1.0" upper="1.0"/>
  </joint>

  <!--Dummy tip link for IK calculations-->
  <link name="left_wrist"/>
  <!-- Fixed joint attaching the dummy to the foot -->
  <joint name="left_wrist_joint" type="fixed">
    <parent link="connector8"/>
    <child link="left_wrist"/>
    <origin xyz="0.0 -.131 0.01" rpy="0 0 0"/>
  </joint>

  <!--Dummy tip link for IK calculations-->
  <link name="right_wrist"/>
  <!-- Fixed joint attaching the dummy to the foot -->
  <joint name="right_wrist_joint" type="fixed">
    <parent link="connector8_2"/>
    <child link="right_wrist"/>
    <origin xyz="0.0 .131 0.01" rpy="0 0 0"/>
  </joint>

</robot>
